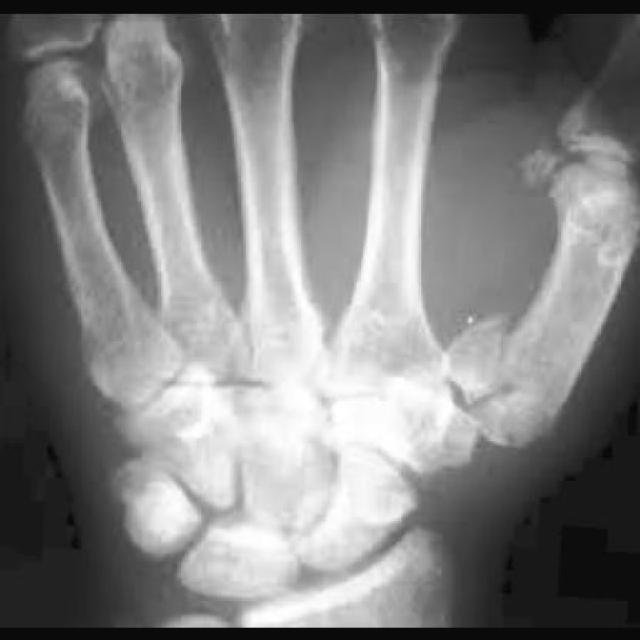Fracture: (436, 320, 550, 436)
